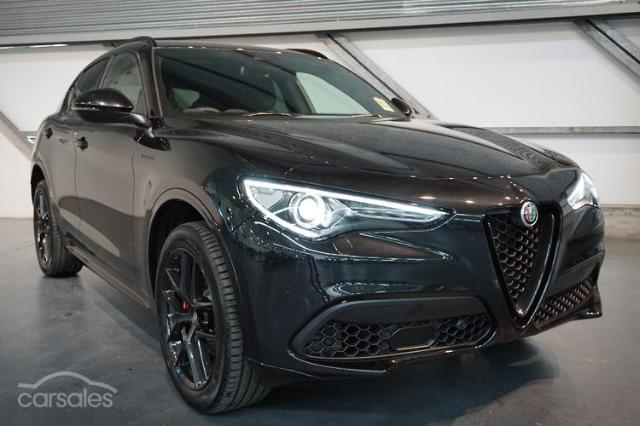alpha-romeo: (29, 36, 608, 416)
